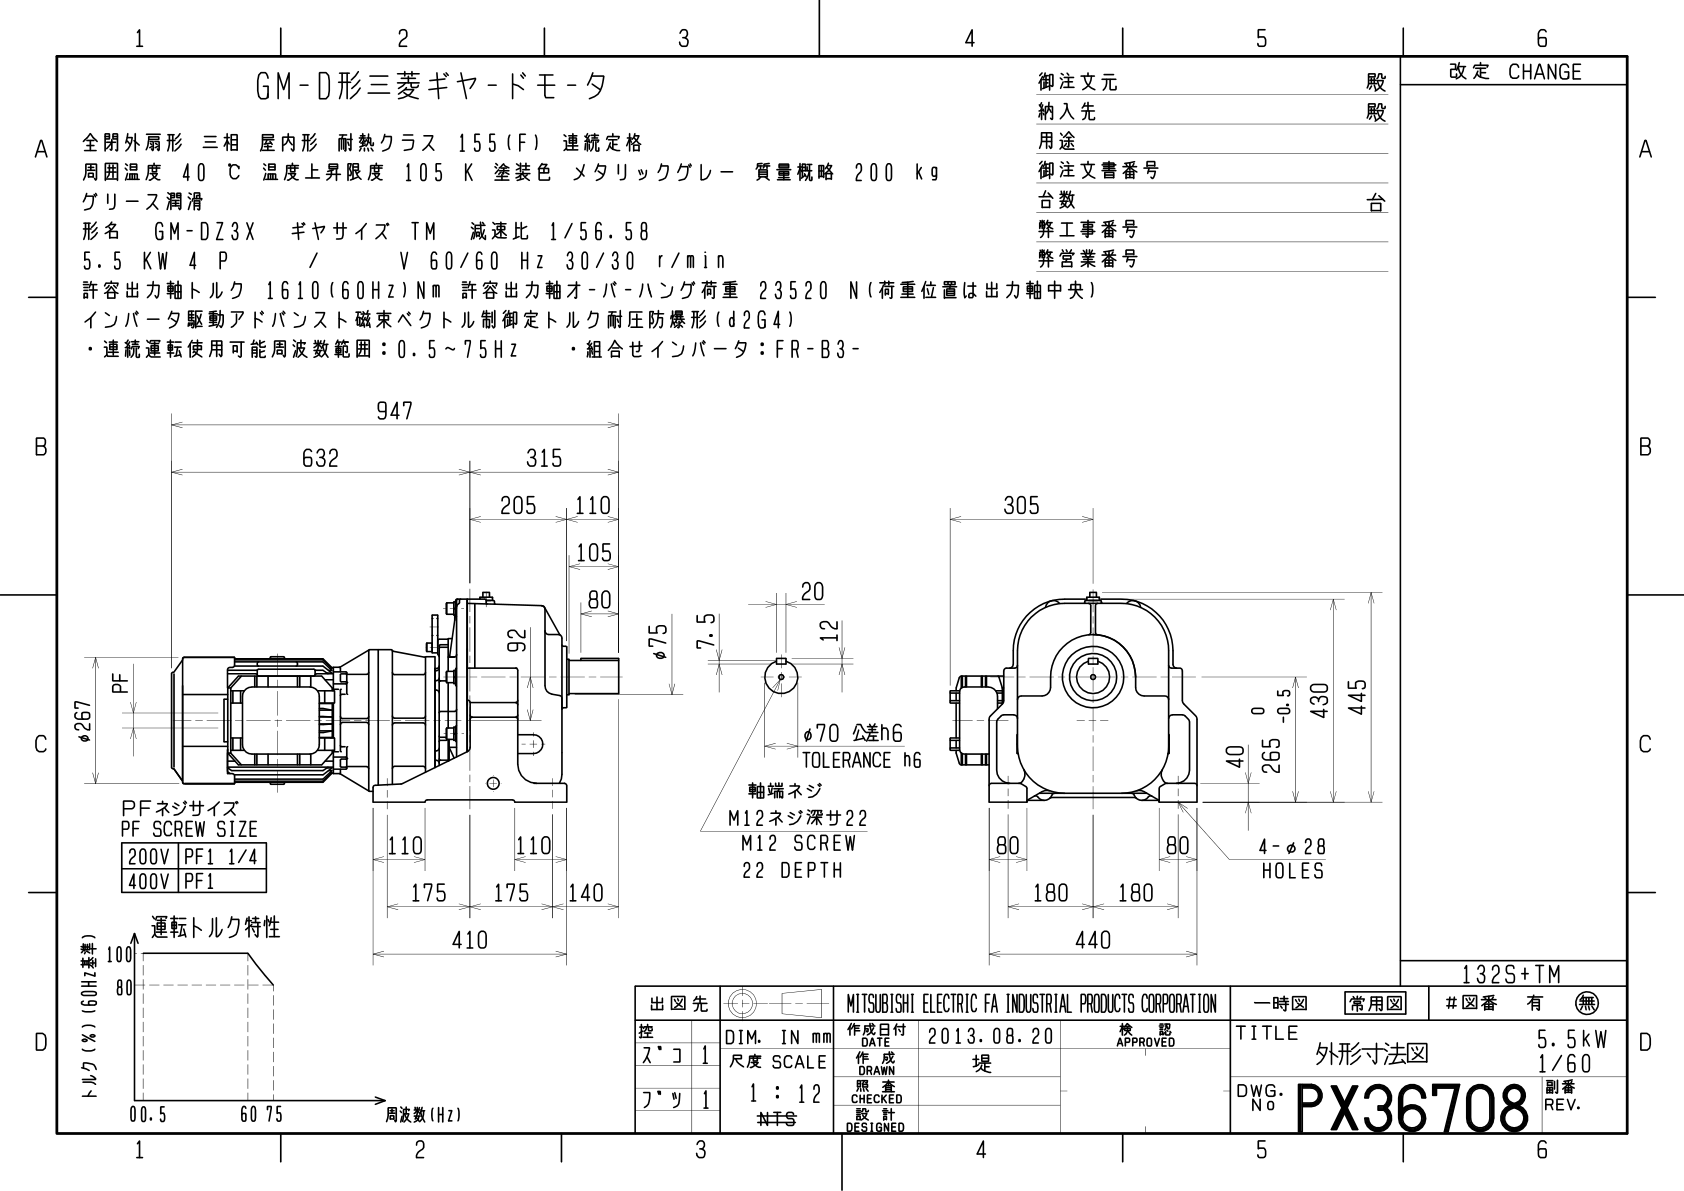GM_D_制御屋内_三相_脚: (58, 380, 1395, 978)
